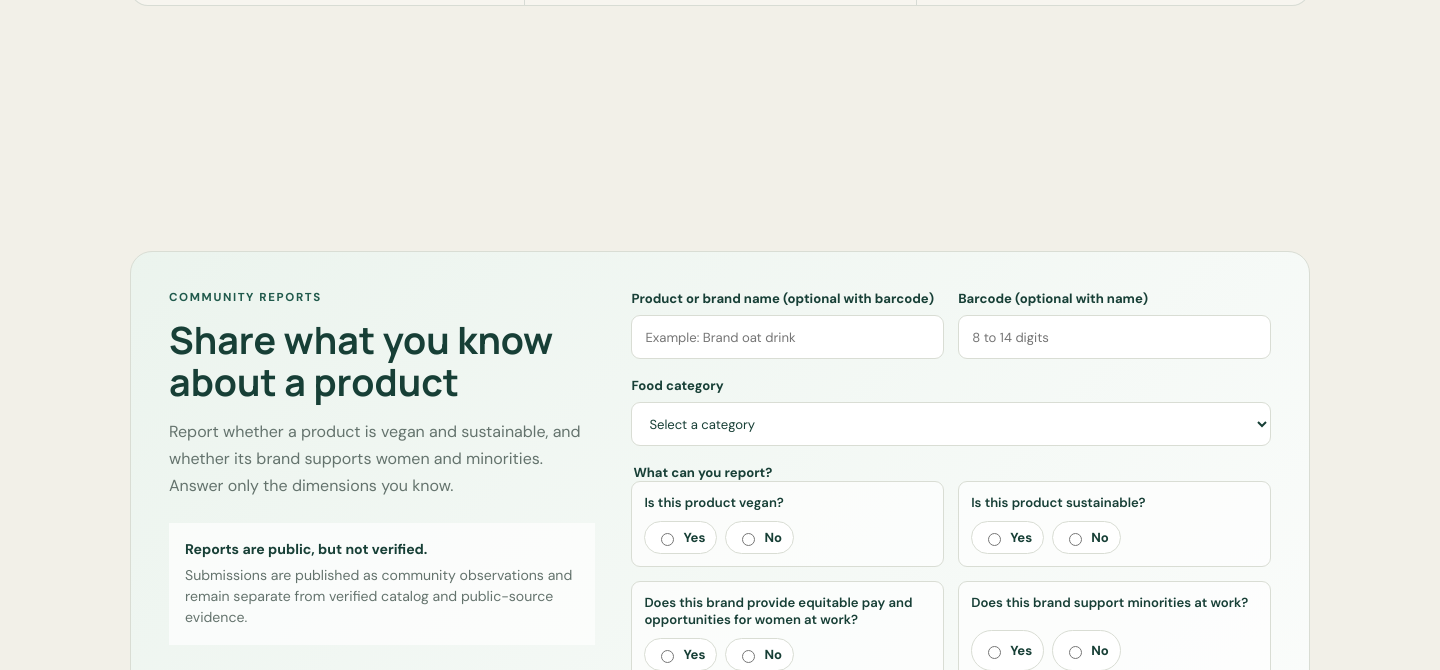
Test: consumer evidence experience › submits product assessments as an unverified community report
(page scrolled)
Type "Example drink" into the field labelled "Product or brand name (optional with barcode)".
click(788, 337); type("Example drink")  # box x1=631 y1=315 x2=944 y2=359
Select "Beverages" in the dropdown labelled "Food category" at [951, 424], box x1=631 y1=402 x2=1271 y2=446
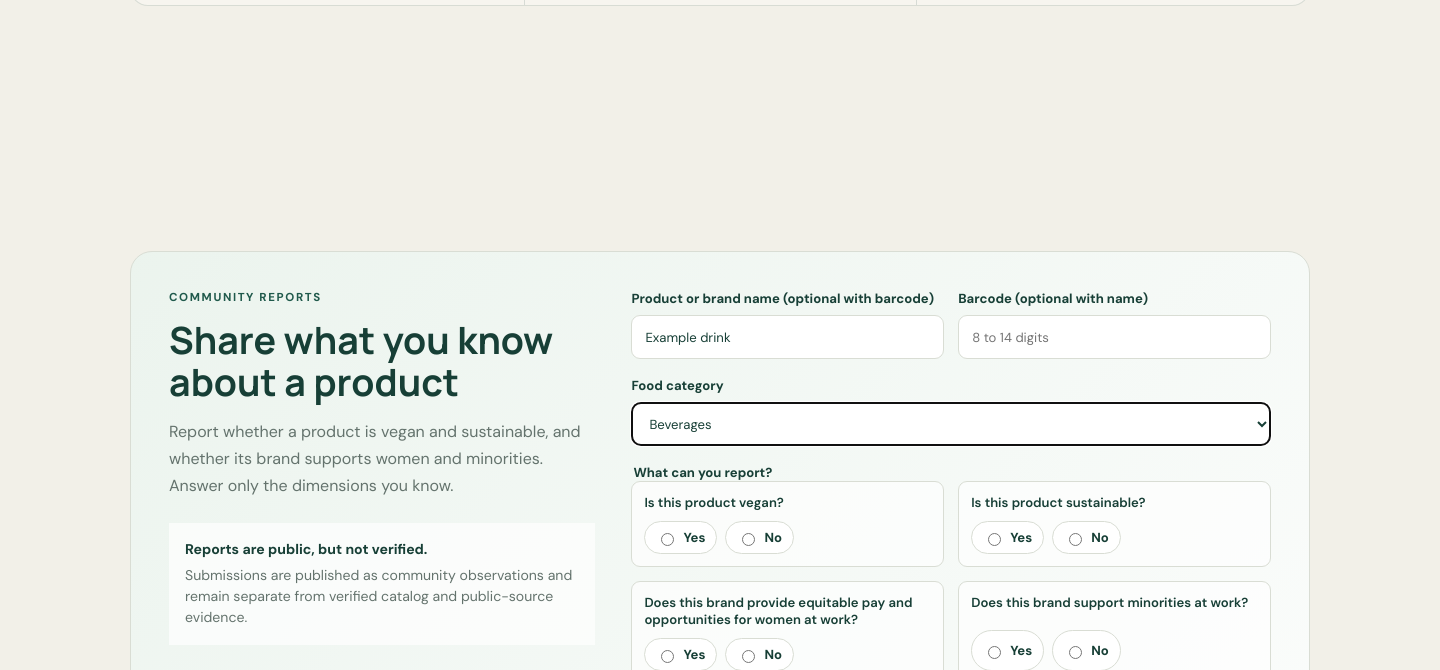
Click the radio button labelled "No" below "Is this product sustainable?".
click(1076, 539)  # box x1=1069 y1=533 x2=1082 y2=546
(page scrolled)
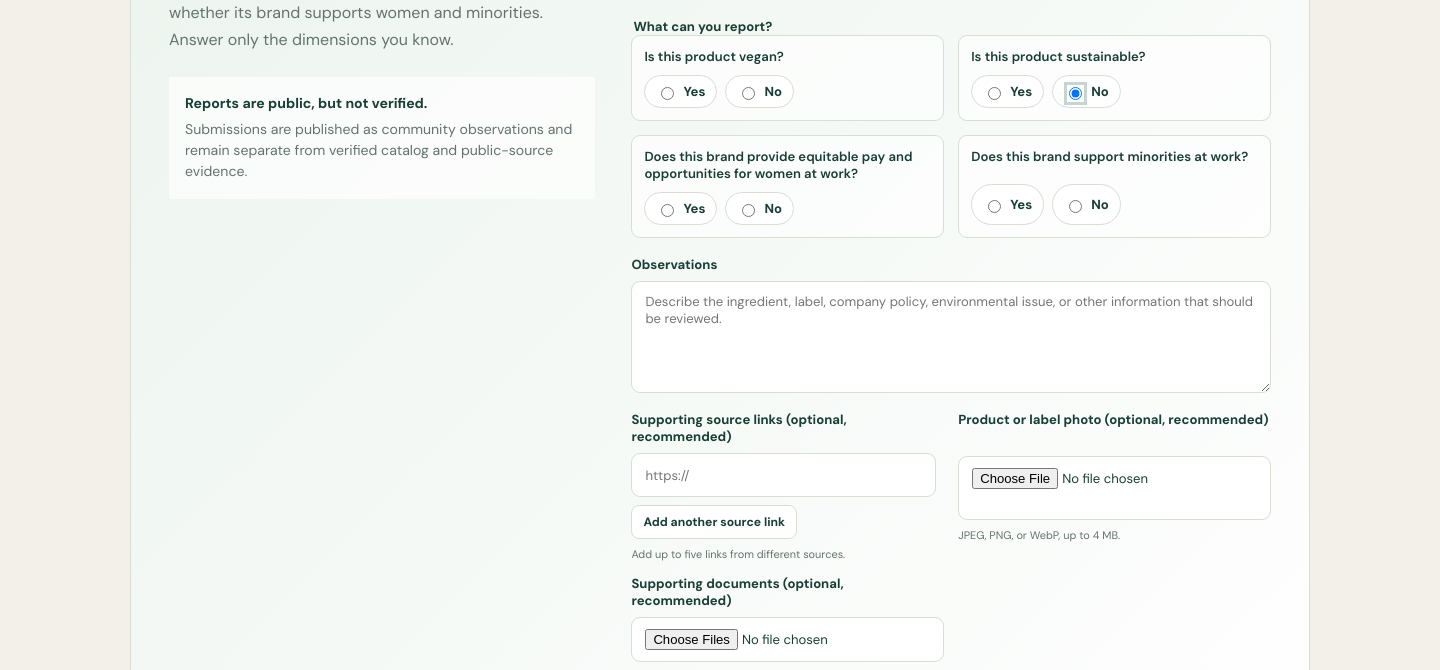
Type "The package makes an environmental claim without identifying a source." into the text box labelled "Observations".
click(951, 337); type("The package makes an environmental claim without identifying a source.")  # box x1=631 y1=281 x2=1271 y2=393
Type "https://example.org/source-one" into the field named "Supporting source links (optional, recommended) 1".
click(784, 475); type("https://example.org/source-one")  # box x1=631 y1=453 x2=936 y2=497
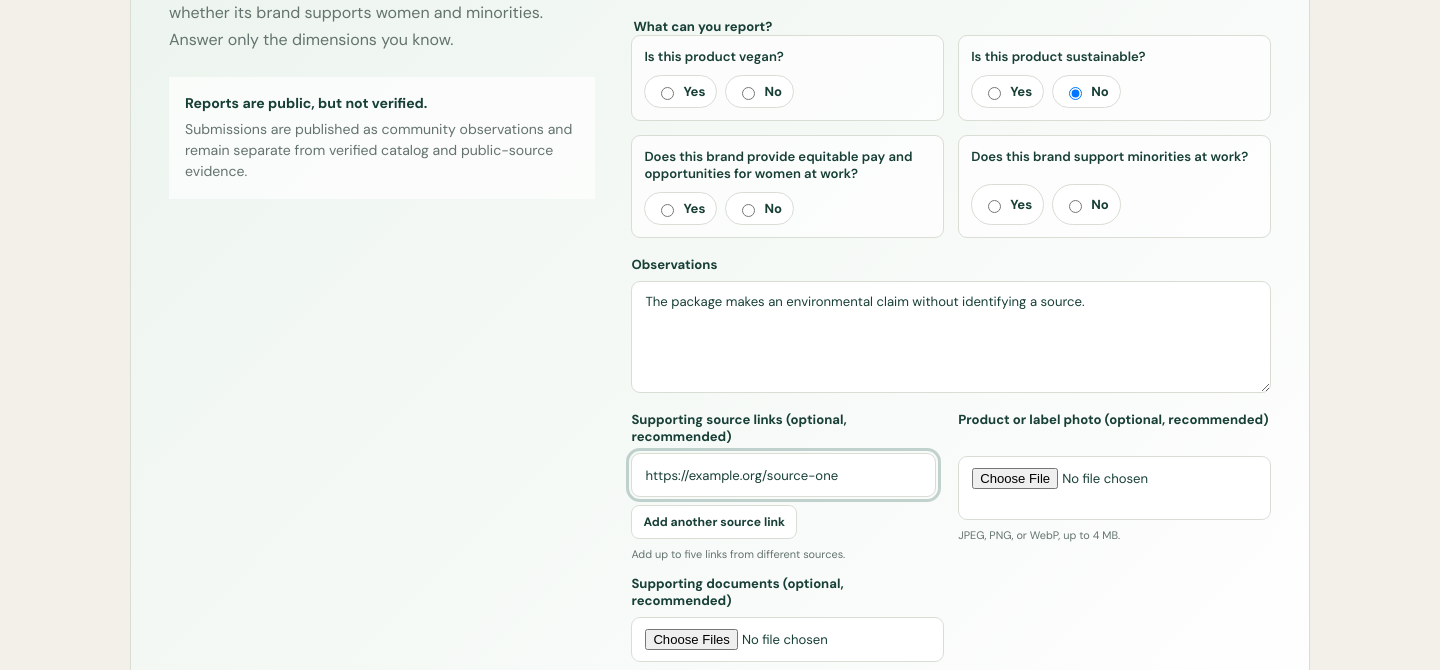
Click the button "Add another source link".
click(714, 522)  # box x1=631 y1=505 x2=797 y2=539
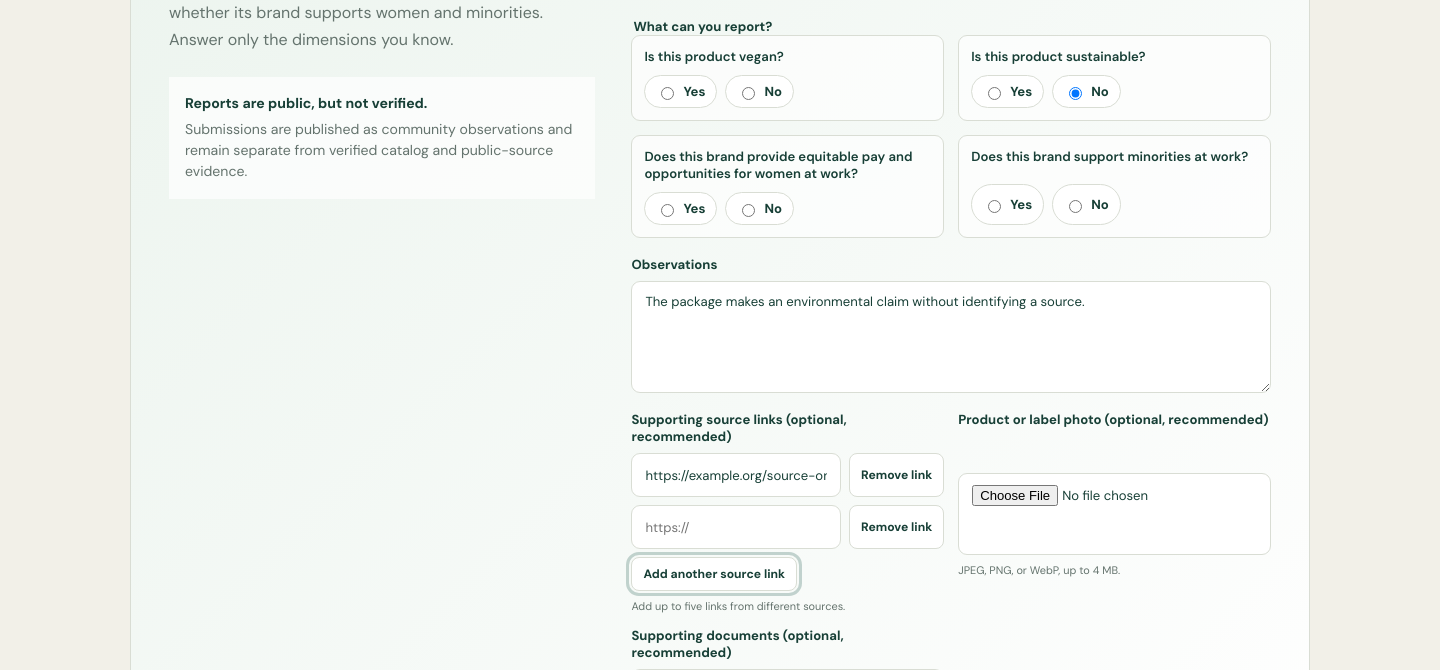
Type "https://example.org/source-two" into the field named "Supporting source links (optional, recommended) 2".
click(736, 527); type("https://example.org/source-two")  # box x1=631 y1=505 x2=841 y2=549
(page scrolled)
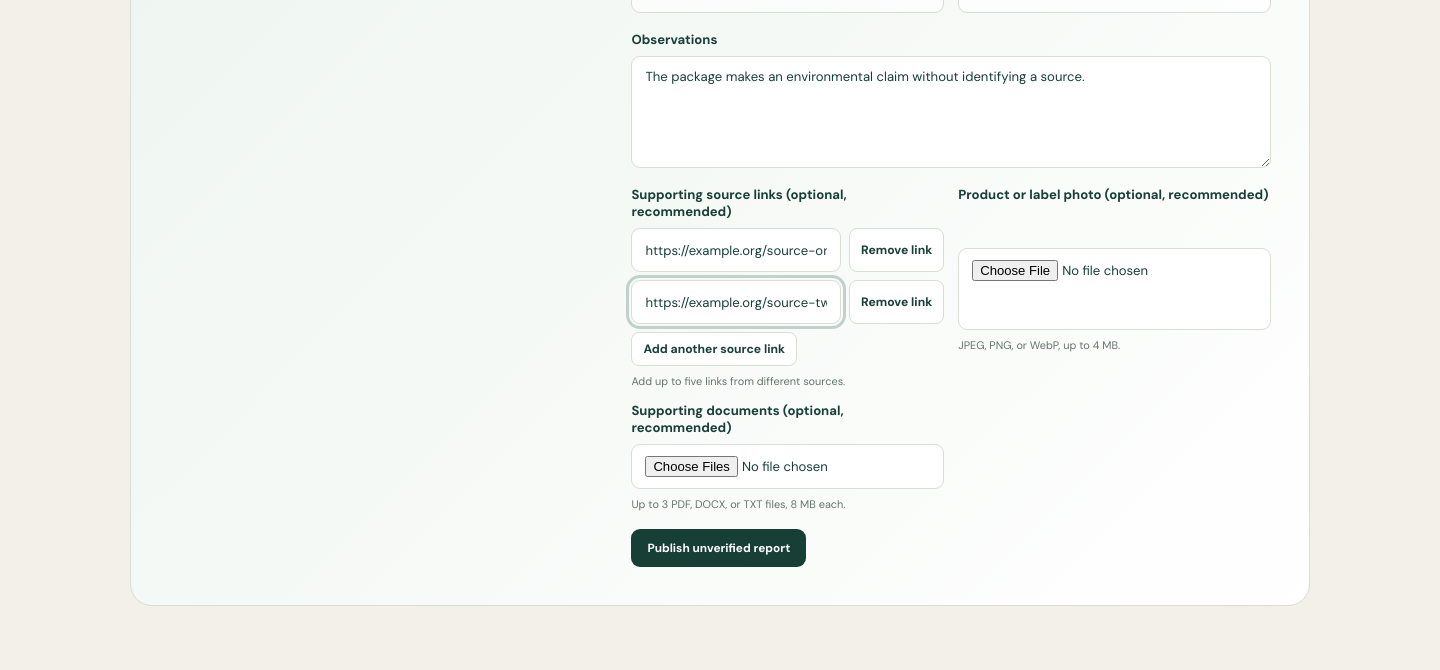
Click the button "Publish unverified report".
click(719, 548)  # box x1=631 y1=529 x2=806 y2=567
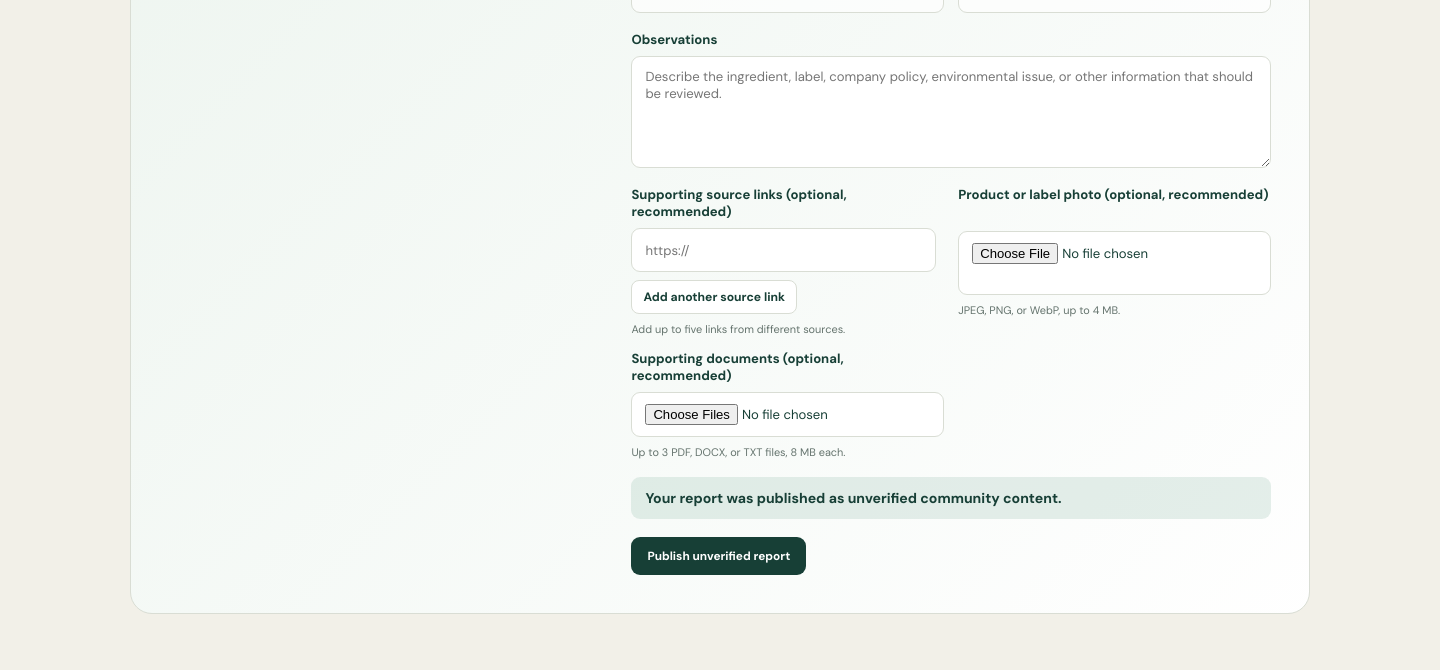
expect the text "Your report was published as unverified community content." is shown: met, box x1=631 y1=477 x2=1271 y2=519
